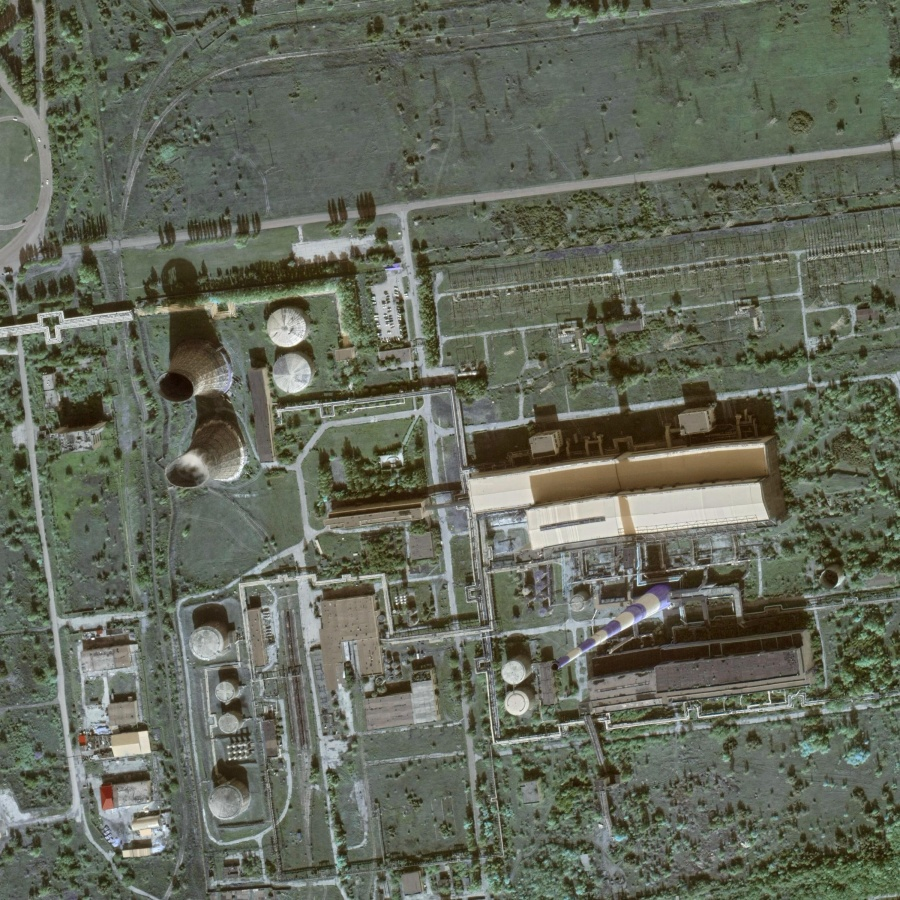PowerPlant: (150, 285, 804, 876)
